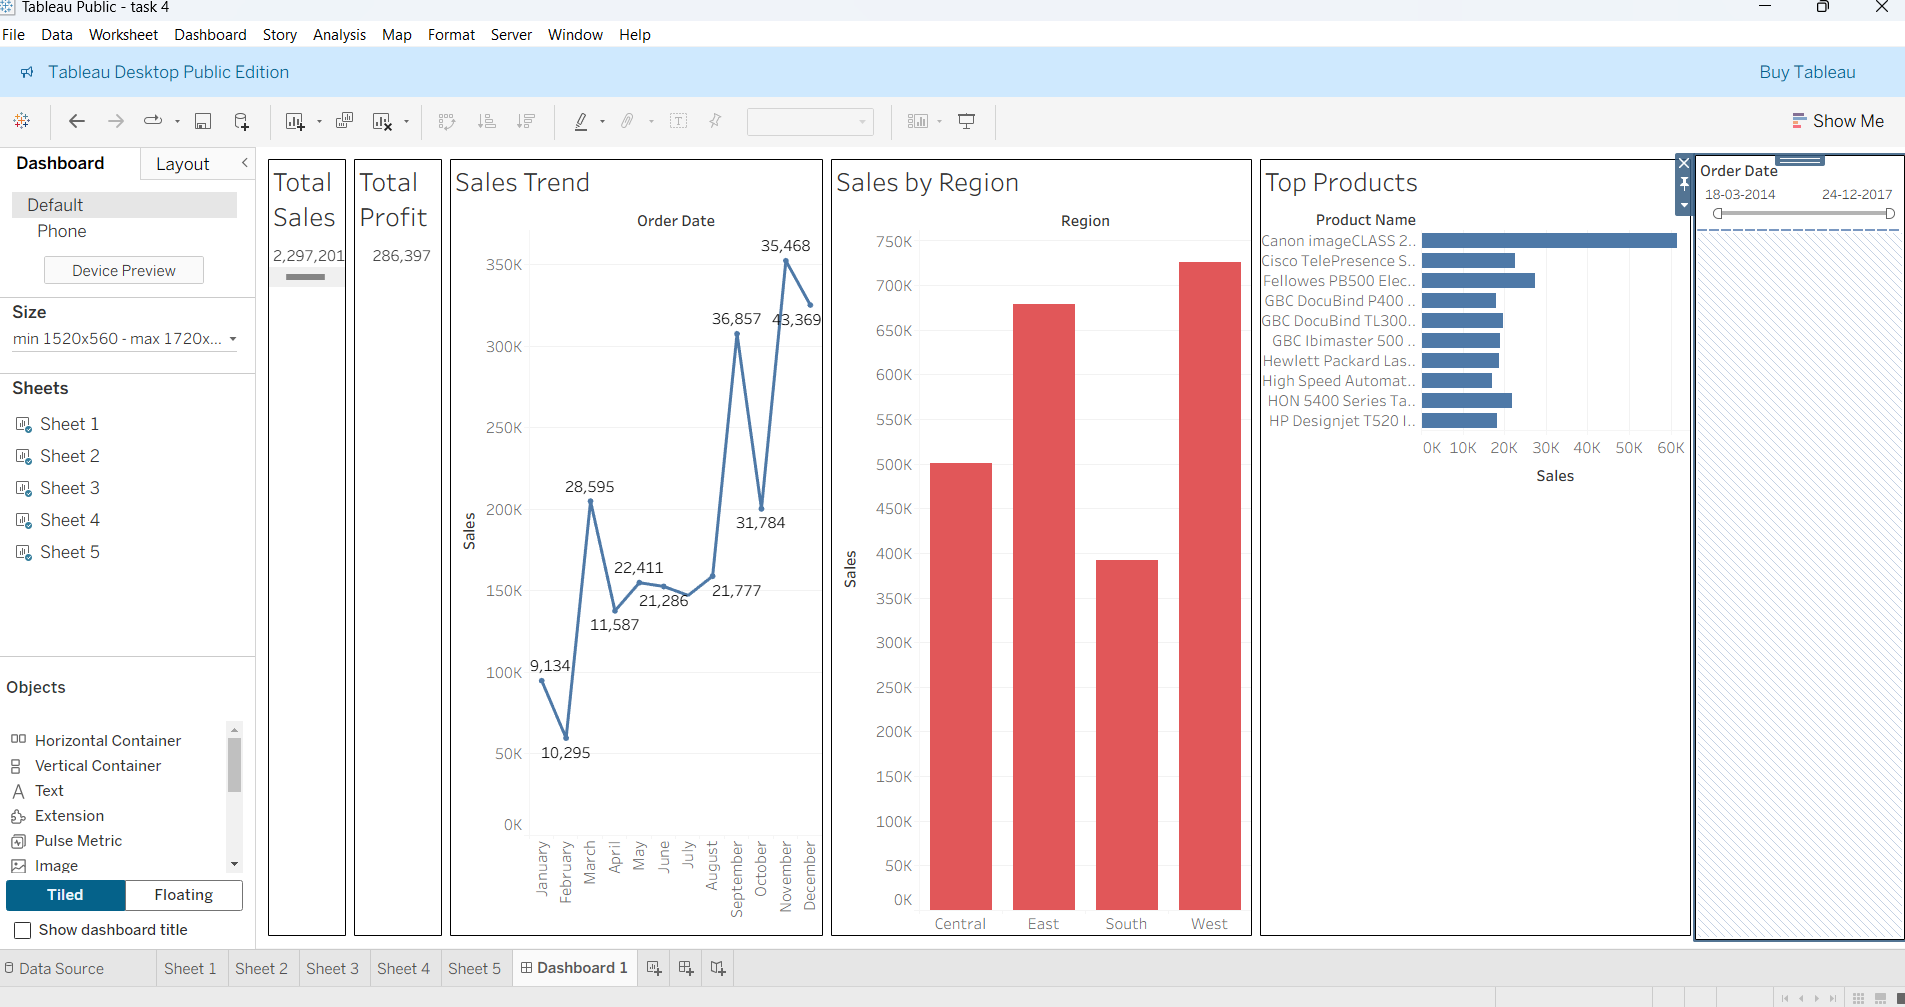

What the dashboard file says about the page in this screenshot:
{"tool":"tableau","page":{"name":"Dashboard 1","canvas":[1000,1000],"units":"permille","ordinal":0},"visuals":[{"type":"worksheet","title":"Sheet 1","mark":"Automatic","box":[4.8,10,51.9,980]},{"type":"worksheet","title":"Sheet 2","mark":"Automatic","box":[56.7,10,57.9,980]},{"type":"worksheet","title":"Sheet 3","mark":"Automatic","rows":["Sales"],"cols":["Order Date"],"box":[114.7,10,229.9,980]},{"type":"worksheet","title":"Sheet 4","mark":"Automatic","rows":["Sales"],"cols":["Region"],"box":[344.6,10,258.9,980]},{"type":"worksheet","title":"Sheet 5","mark":"Automatic","rows":["Product Name"],"cols":["Sales"],"box":[603.5,10,264.9,980]},{"type":"filter","title":"Sheet 5","param":"[federated.12vc9hs07ufch01ff6jfb1jye0ss].[none:Order Date:qk]","box":[869,11.2,125.5,91.1]}]}

Visuals, with their boxes on the dashboard's canvas, which has no fixed pixel size, in thousandths of its width and height (x1, y1, x2, y2). These are canvas units, not pixel positions in the 1905x1007 screenshot, which may show the page scaled, cropped or inside an application window:
"Sheet 1" worksheet: 5:10:57:990
"Sheet 2" worksheet: 57:10:115:990
"Sheet 3" worksheet: 115:10:345:990
"Sheet 4" worksheet: 345:10:604:990
"Sheet 5" worksheet: 604:10:868:990
"Sheet 5" filter: 869:11:994:102
